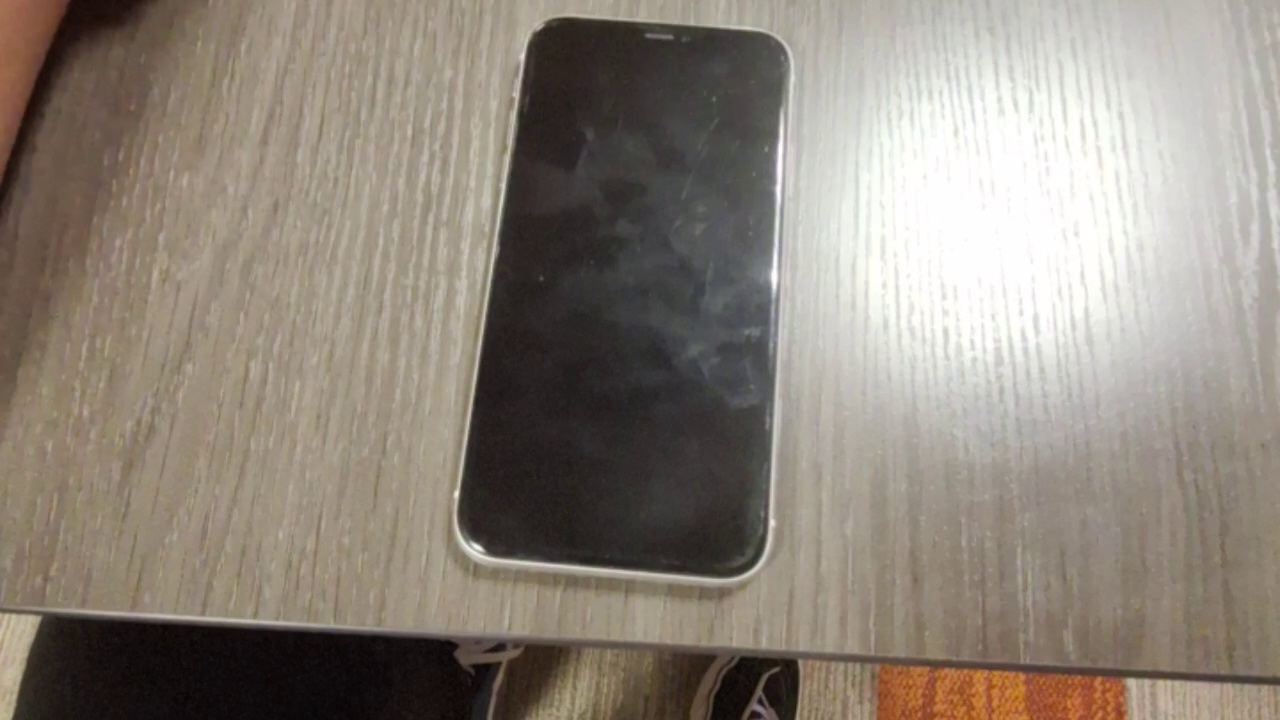celular: (451, 17, 793, 591)
